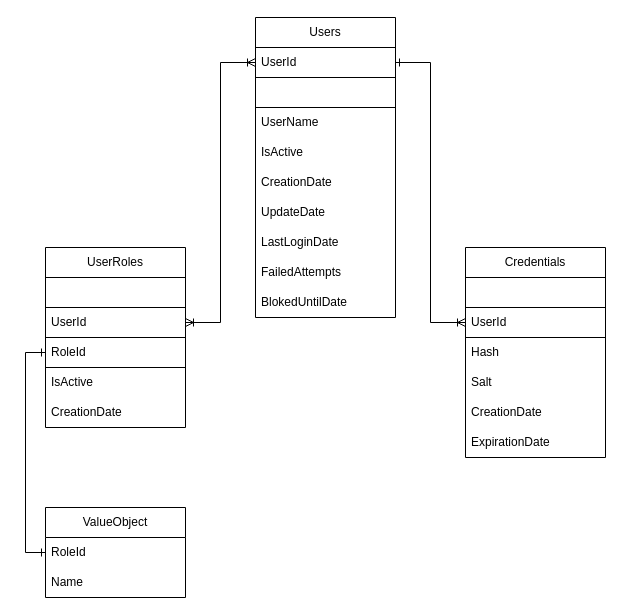
The diagram is 623 pixels wide and 615 high, and some of its shapes have lost their labels. The shapes that lost their labels are listed below. From the top down, each one's centre as x and y in pixels, then its label:
At point 325,92: "PatientId".
At point 115,292: "UserRolId".
At point 535,292: "CredentialsId".
